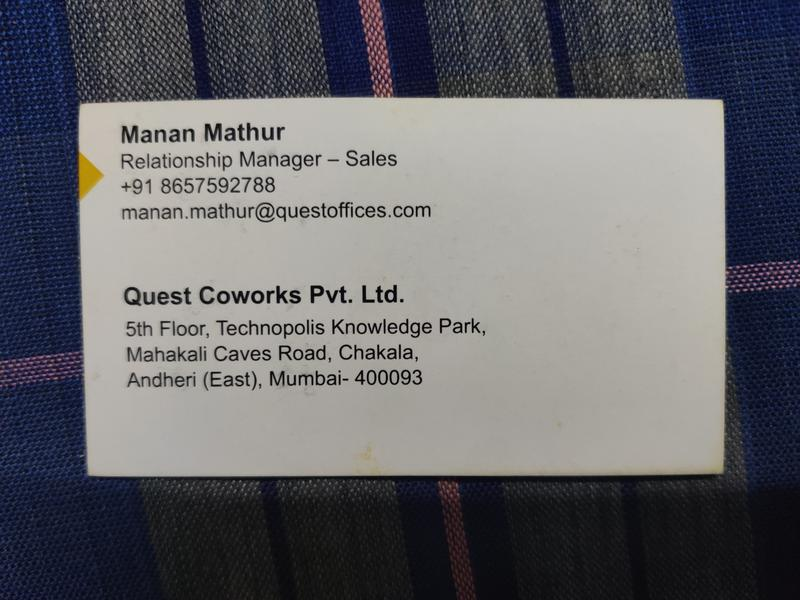card: (77, 98, 728, 475)
